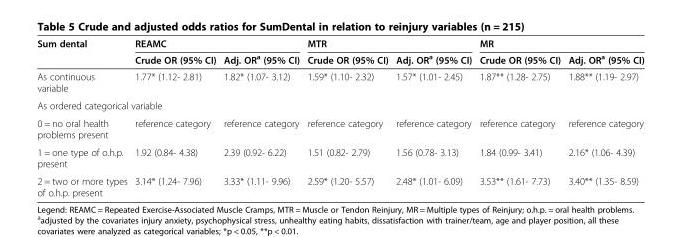table: (36, 37, 643, 197)
table column: (36, 37, 130, 197), (130, 37, 219, 197), (302, 37, 391, 197), (475, 37, 563, 197), (391, 37, 475, 197), (219, 37, 302, 197), (563, 37, 643, 197)
table column header: (36, 37, 643, 67)
table projected row header: (36, 96, 643, 114)
table row: (36, 67, 643, 96), (36, 114, 643, 143), (36, 143, 643, 171), (36, 171, 643, 197), (36, 96, 643, 114), (36, 50, 643, 67), (36, 37, 643, 50)
table spanning cell: (36, 37, 130, 67), (302, 37, 475, 50), (130, 37, 302, 50), (475, 37, 643, 50)
